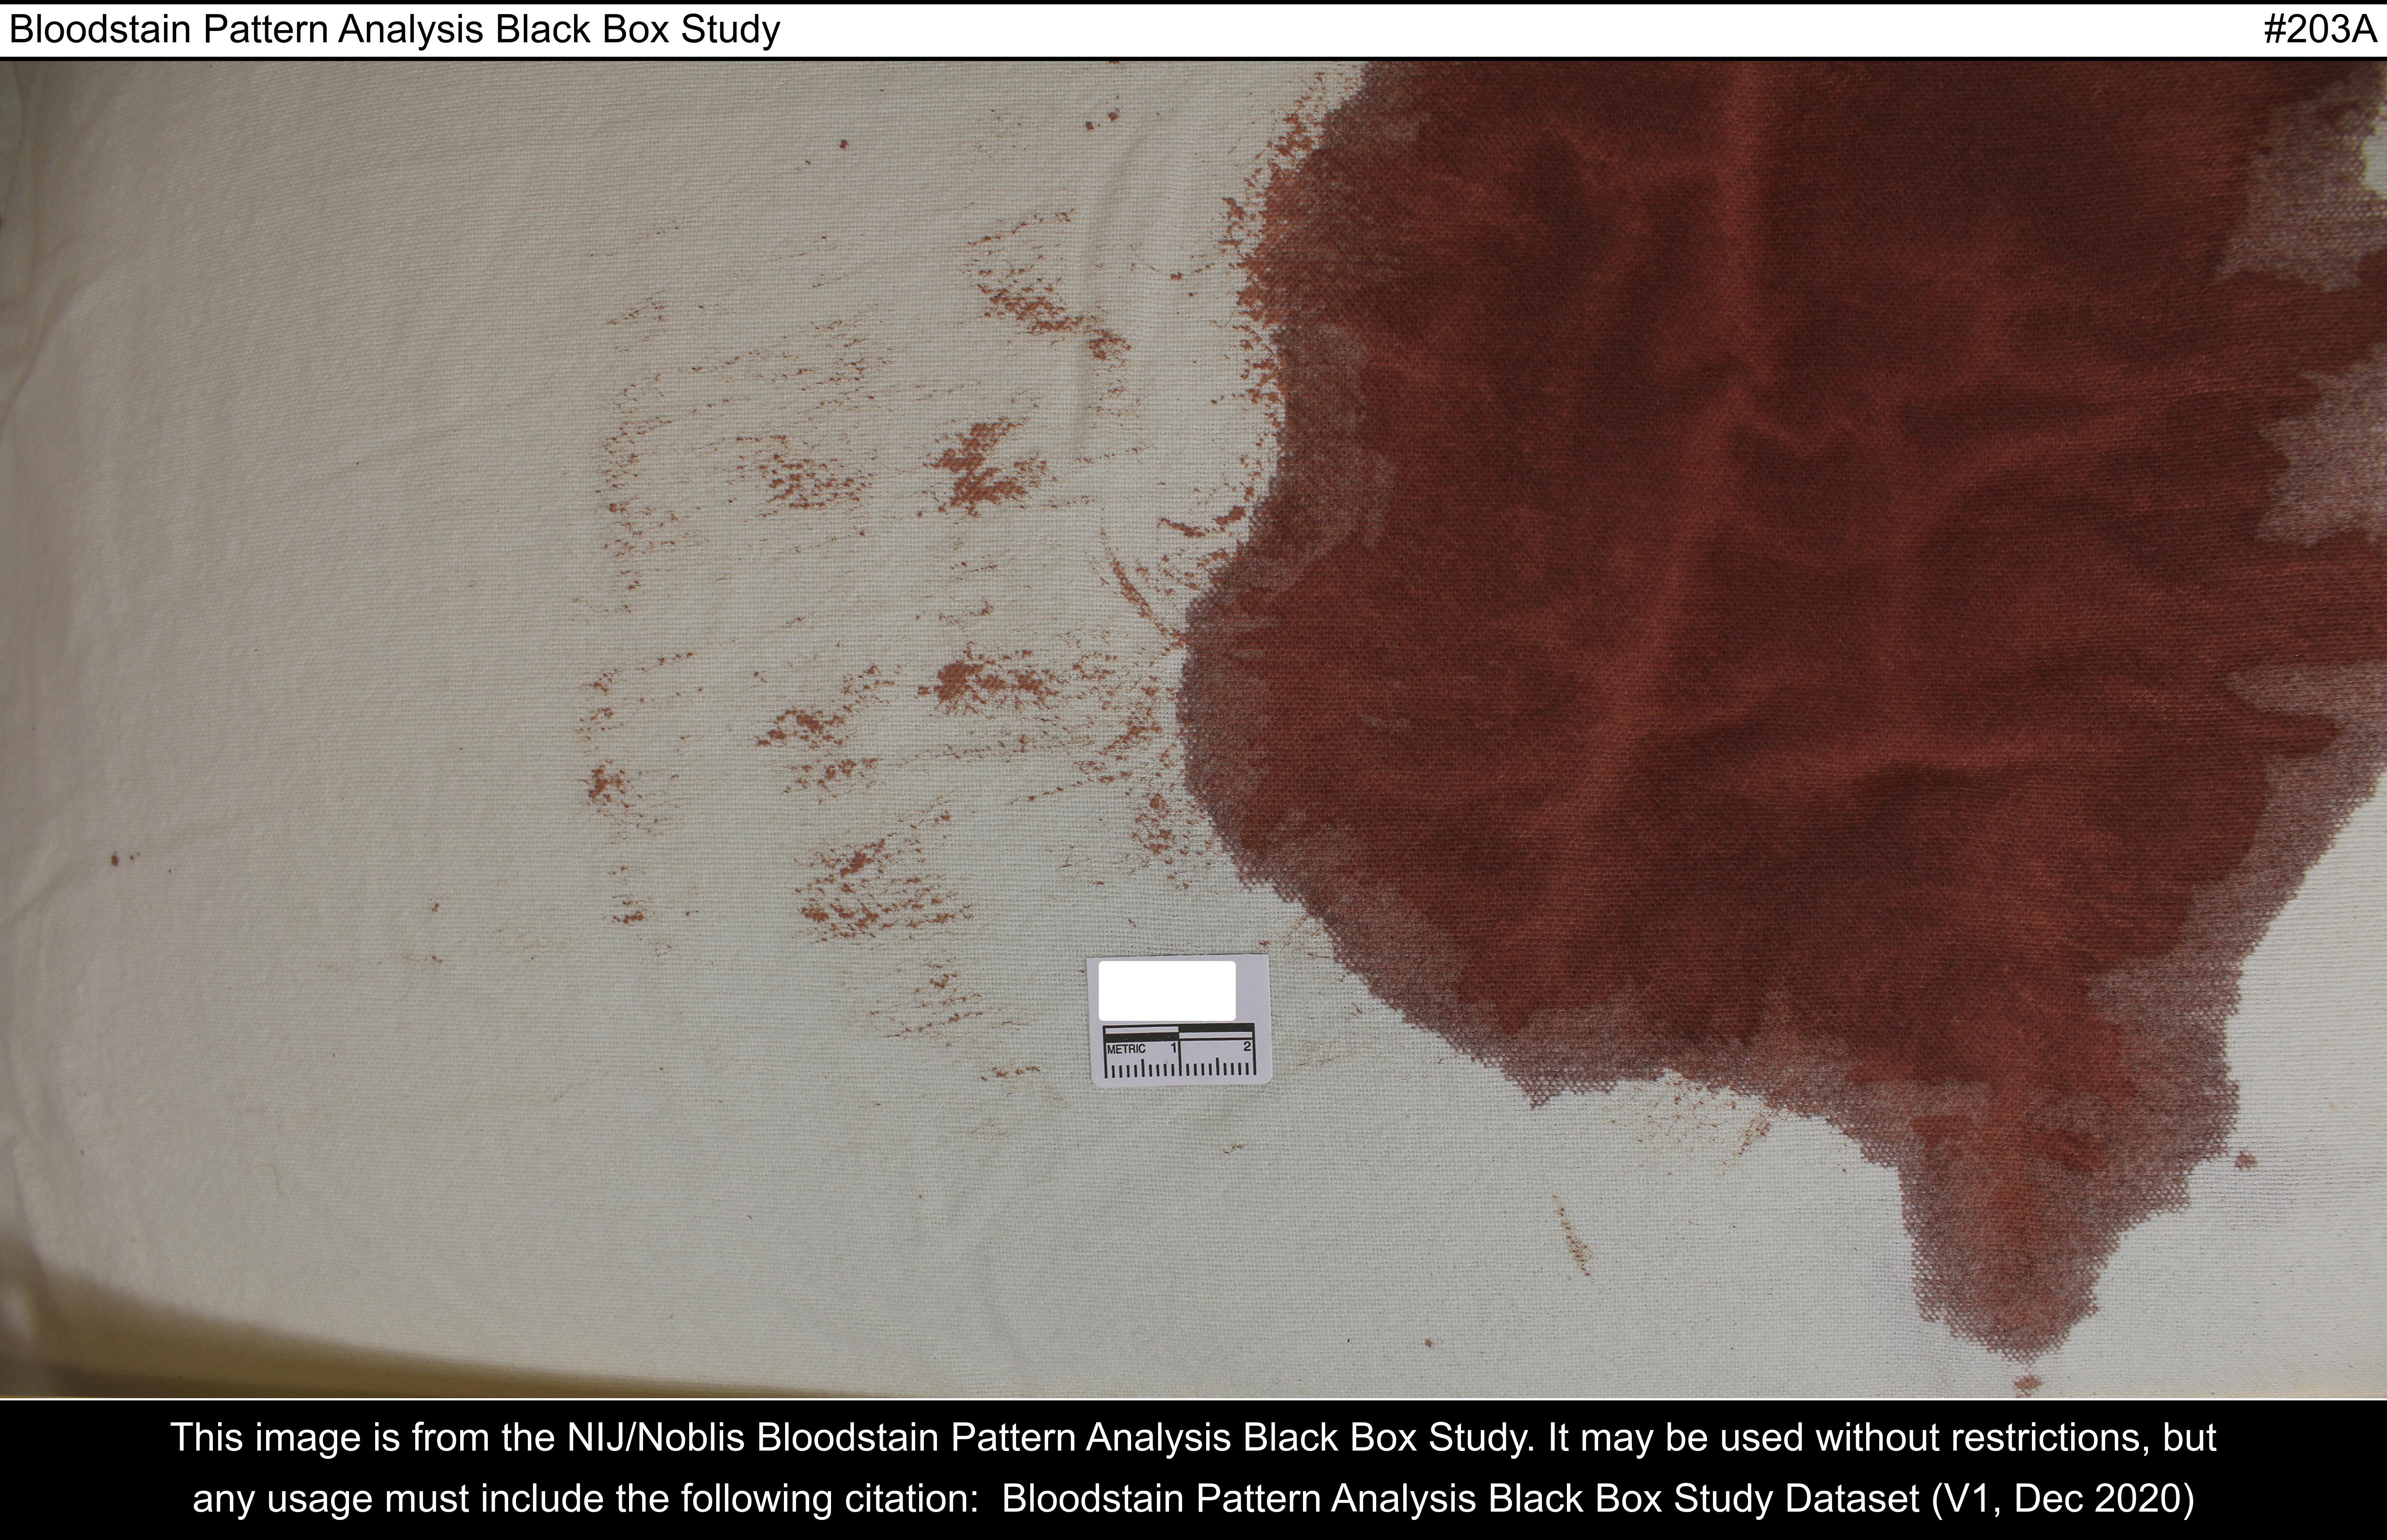Transfer: (1246, 70, 2373, 1335)
